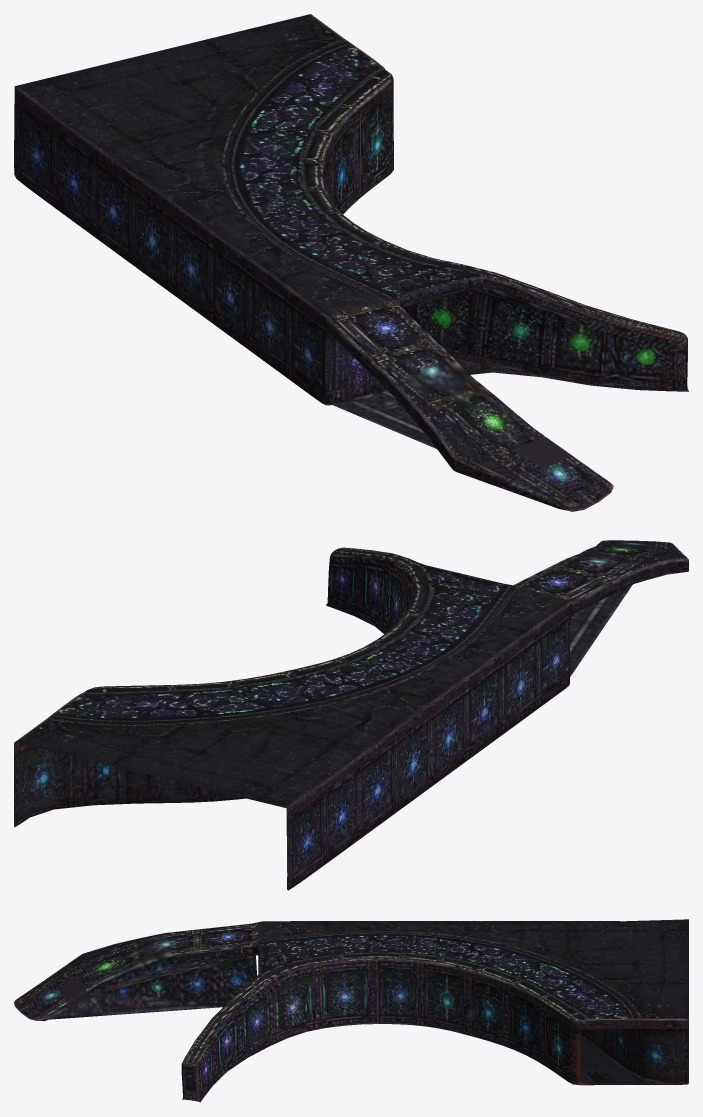
Rendered from etage_lvl_4.glb.
3 renders of one model, top to bottom at view 1: azimuth 30°, elevation 25°; view 2: azimuth 150°, elevation 25°; view 3: azimuth 270°, elevation 25°, orthographic. The views are drawn at different scales.
Visible parts, largest first — view 1: Mesh_0; view 2: Mesh_0; view 3: Mesh_0.
Part boxes in pixels (box(x1,y1,x2,y2)): Mesh_0: box(14, 14, 688, 511); Mesh_0: box(14, 540, 688, 890); Mesh_0: box(14, 919, 688, 1102).
Size of the model in its own units: 0.36 by 0.1255 by 0.9778.
1 material, 1 textured.
